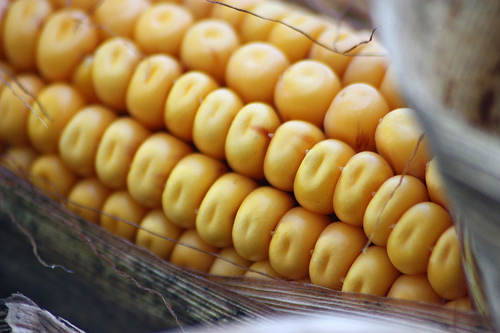corn: (0, 2, 499, 332)
